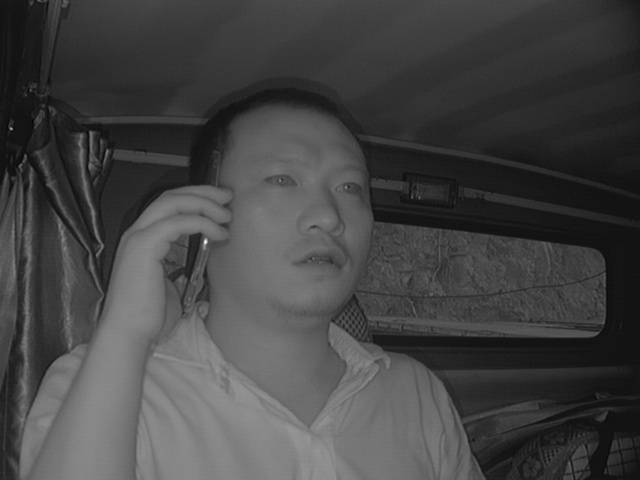hand: (105, 182, 227, 329)
